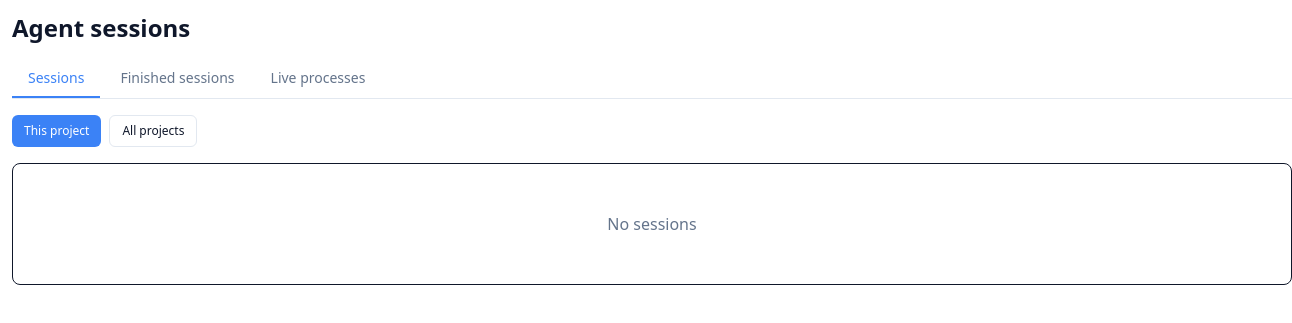
Test: LogsPage (tab shell) › sets ?tab= in the URL when switching tabs
Click the button "Live processes". click: [318, 79]
box: [254,60,381,98]
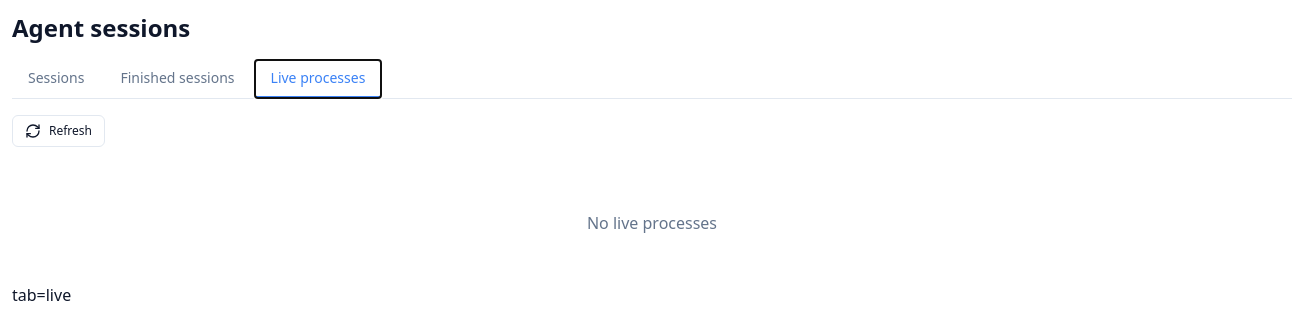
Now the text with test id "search-params" reads "tab=live", box [12,284,71,306]
